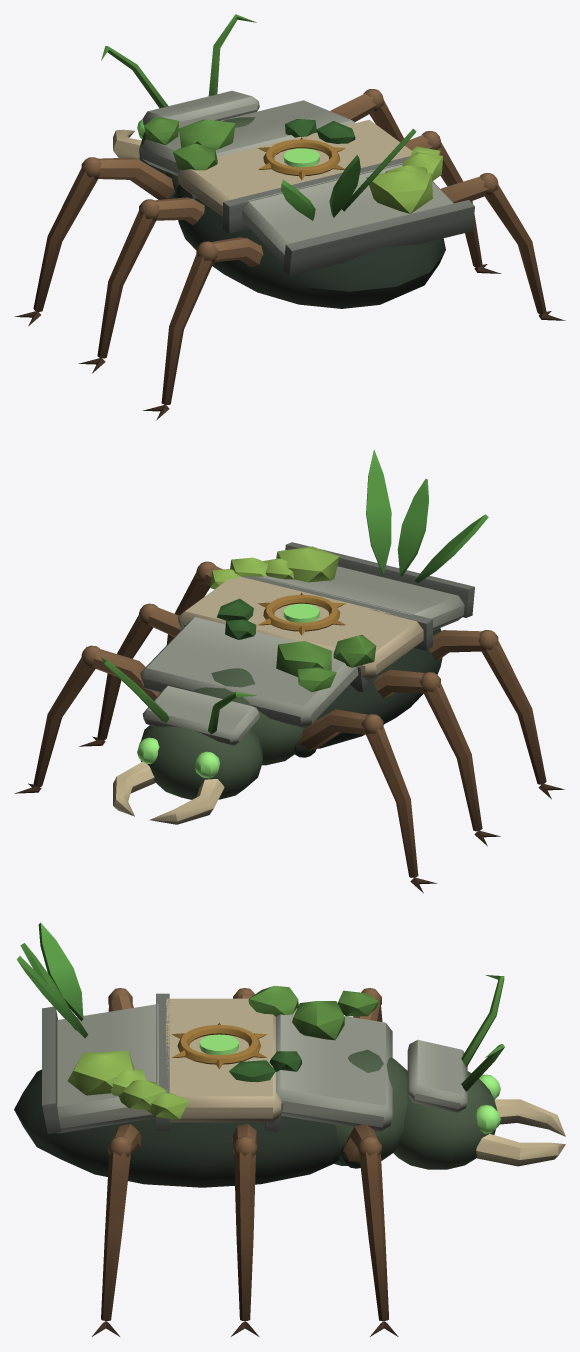
The model's file is mob_moss_crawler.fbx.
The picture shows the model from 3 angles, top to bottom: view 1: azimuth 30°, elevation 25°; view 2: azimuth 150°, elevation 25°; view 3: azimuth 270°, elevation 25°; orthographic projection. The views are drawn at different scales.
Visible parts, largest first — view 1: Body, Knee-1_3, Knee-1_2, Knee-1_1, Head, Knee1_3, Leg-1_1, Knee1_2, Leg-1_3, Leg-1_2, Knee1_1, Leg1_3 (+5 smaller); view 2: Body, Head, Knee-1_1, Knee-1_2, Knee-1_3, Knee1_1, Knee1_2, Leg-1_1, JawL, JawR, Leg-1_3, Leg-1_2 (+6 smaller); view 3: Body, Head, Knee1_2, Knee1_3, Knee1_1, JawR, JawL, ExtraAntennaL, Head_Glow_Spring, Leg1_1, Body_Glow_Spring, ExtraAntennaR.
Boxes of the visible parts, <box> form: Body: <box>140,100,474,308</box>; Knee-1_3: <box>143,241,217,420</box>; Knee-1_2: <box>78,199,159,373</box>; Knee-1_1: <box>14,157,101,326</box>; Head: <box>139,90,259,173</box>; Knee1_3: <box>480,173,565,320</box>; Leg-1_1: <box>98,157,175,199</box>; Knee1_2: <box>422,131,501,273</box>; Leg-1_3: <box>212,237,263,267</box>; Leg-1_2: <box>155,197,204,225</box>; Knee1_1: <box>363,89,403,142</box>; Leg1_3: <box>441,176,489,203</box>; Body: <box>140,450,488,765</box>; Head: <box>140,685,262,799</box>; Knee-1_1: <box>361,714,437,893</box>; Knee-1_2: <box>419,672,500,846</box>; Knee-1_3: <box>478,630,564,799</box>; Knee1_1: <box>14,645,100,793</box>; Knee1_2: <box>79,603,157,746</box>; Leg-1_1: <box>294,709,367,757</box>; JawL: <box>149,779,224,824</box>; JawR: <box>113,761,155,816</box>; Leg-1_3: <box>429,630,482,660</box>; Leg-1_2: <box>373,669,424,698</box>; Body: <box>14,922,407,1187</box>; Head: <box>393,1039,497,1169</box>; Knee1_2: <box>231,1136,259,1336</box>; Knee1_3: <box>92,1136,132,1336</box>; Knee1_1: <box>357,1136,398,1336</box>; JawR: <box>476,1134,565,1166</box>; JawL: <box>494,1099,565,1136</box>; ExtraAntennaL: <box>461,975,504,1066</box>; Head_Glow_Spring: <box>476,1074,500,1133</box>; Leg1_1: <box>340,1123,377,1168</box>; Body_Glow_Spring: <box>199,1034,238,1055</box>; ExtraAntennaR: <box>461,1044,504,1091</box>.
Size of the model in its own units: 600 by 366 by 645.
2 materials, 1 textured.
